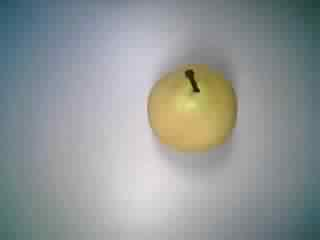pear: (136, 53, 243, 162)
